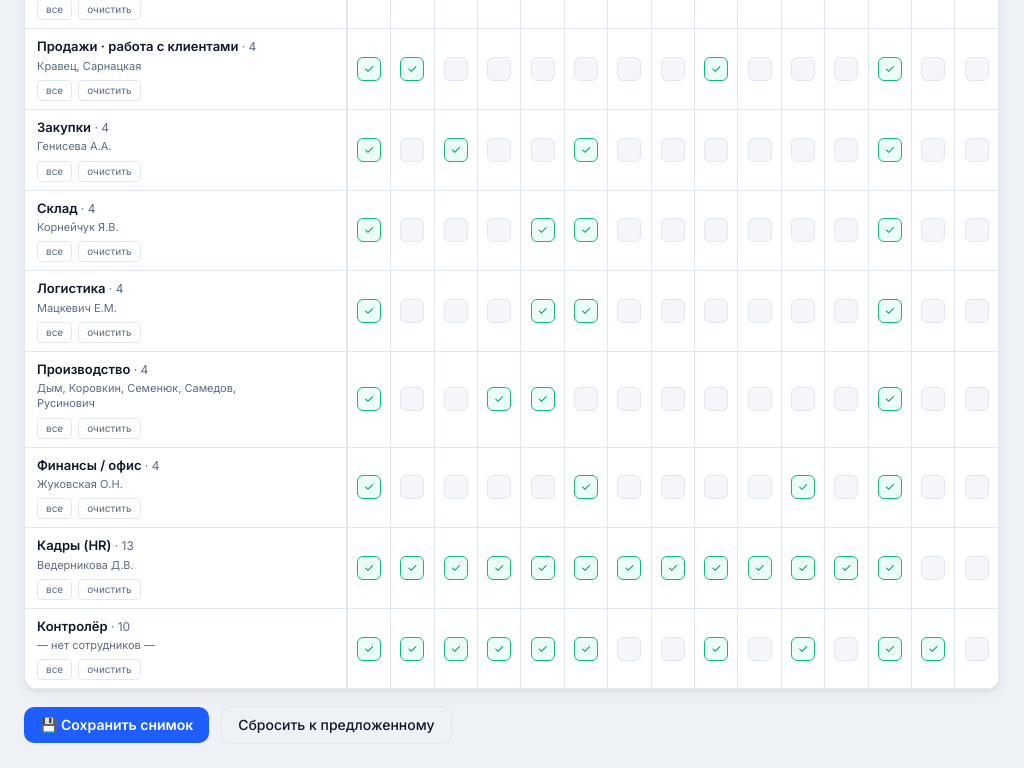
Test: AccessAdmin › кнопки «очистить» и «все» в строке роли меняют счётчик доступных модулей
The width and height of the screenshot is (1024, 768).
(page scrolled)
Expected: the text "Контролёр" shows "· 10", [25,609,999,689]
Click the button "очистить" below "— нет сотрудников —" at (109, 670), box [78,659,141,680]
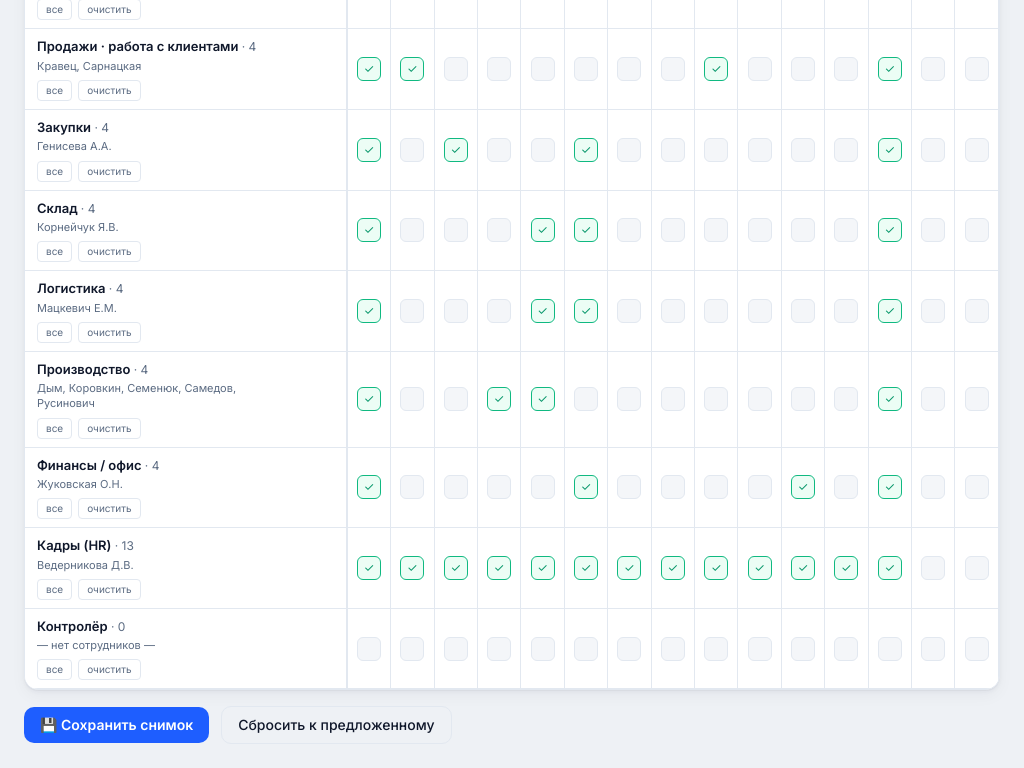
Now the text "Контролёр" shows "· 0", box [25,609,999,689]
Click the button "все" below "— нет сотрудников —" at (55, 670), box [37,659,72,680]
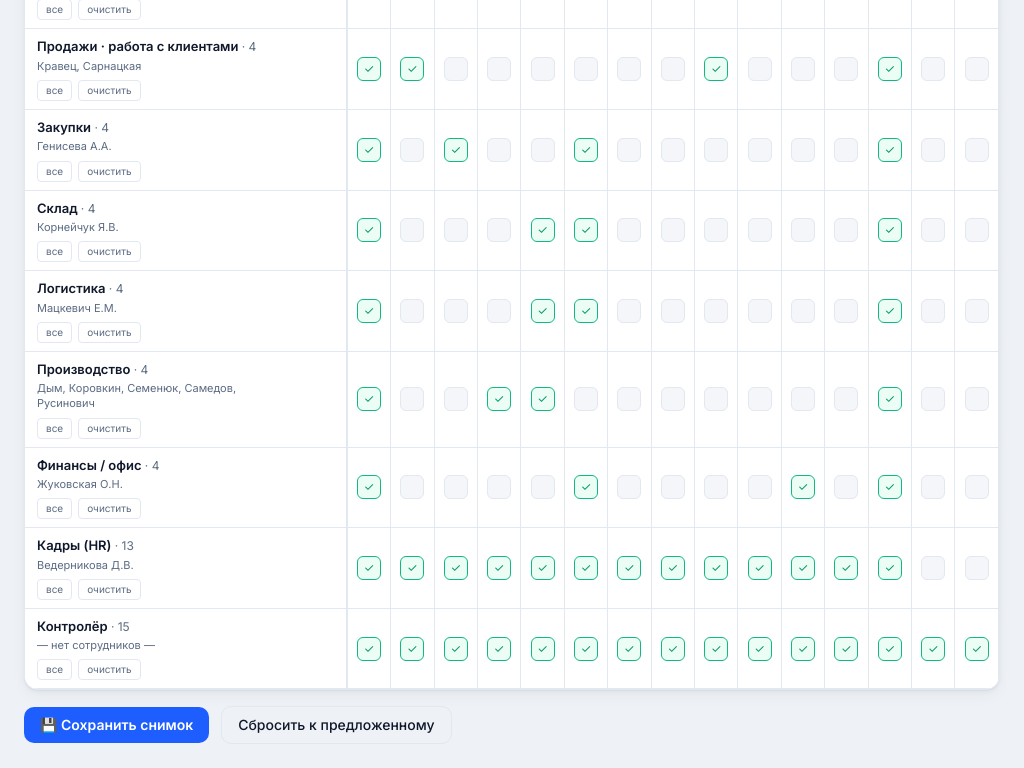
Now the text "Контролёр" shows "· 15", box [25,609,999,689]
